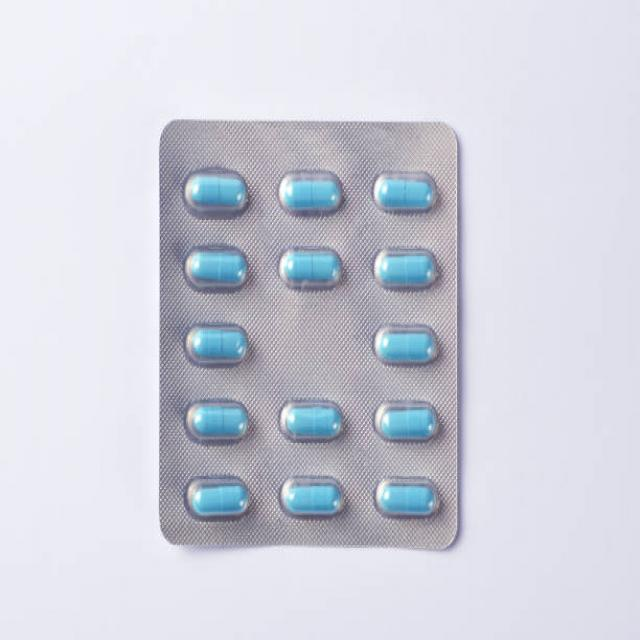Pill: (173, 154, 256, 226), (368, 384, 450, 455), (274, 158, 354, 230), (367, 312, 447, 380), (180, 384, 256, 452), (274, 466, 352, 530), (370, 235, 445, 301), (180, 471, 254, 536), (373, 470, 446, 532), (178, 241, 252, 302), (274, 240, 348, 300), (183, 313, 252, 377), (369, 164, 441, 224), (276, 394, 350, 451)
